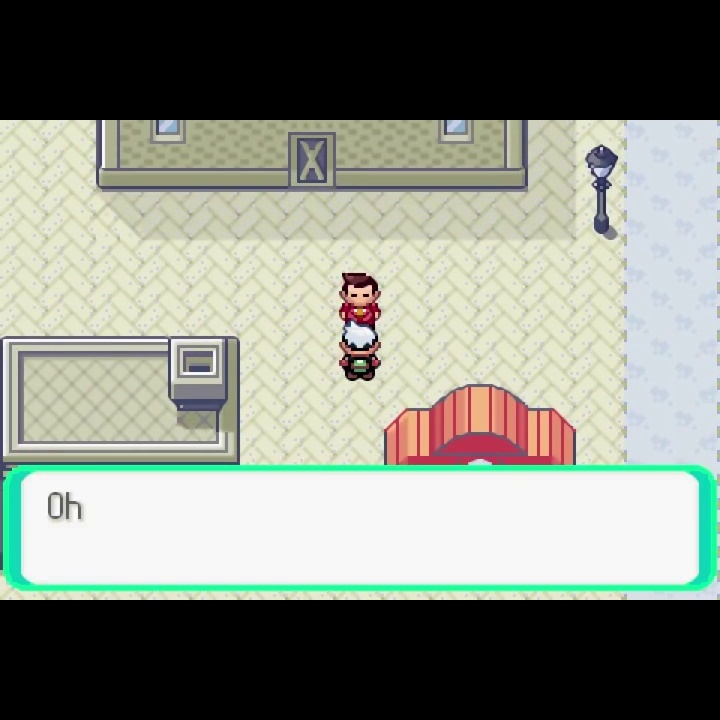house: (1, 335, 241, 465), (94, 120, 529, 191)
npc: (338, 321, 383, 385), (337, 267, 383, 329)
pokecen: (381, 383, 580, 465)
